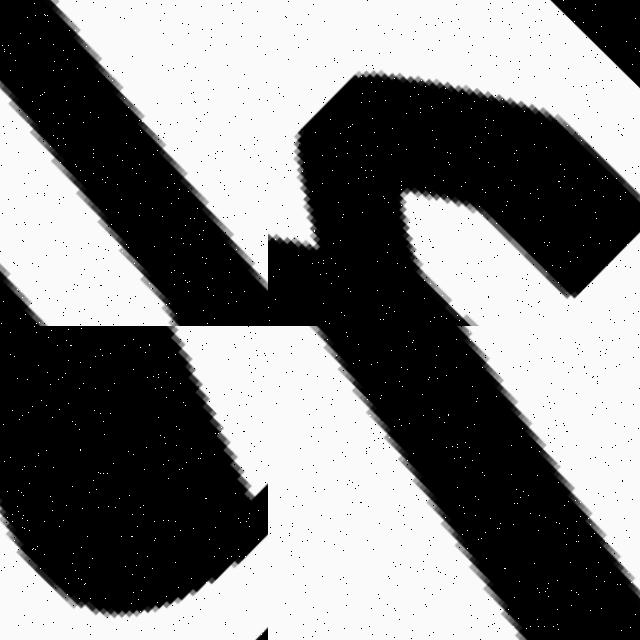5: (0, 326, 268, 640)
L: (268, 326, 640, 640)
N: (0, 0, 268, 326)
W: (268, 0, 640, 326)
